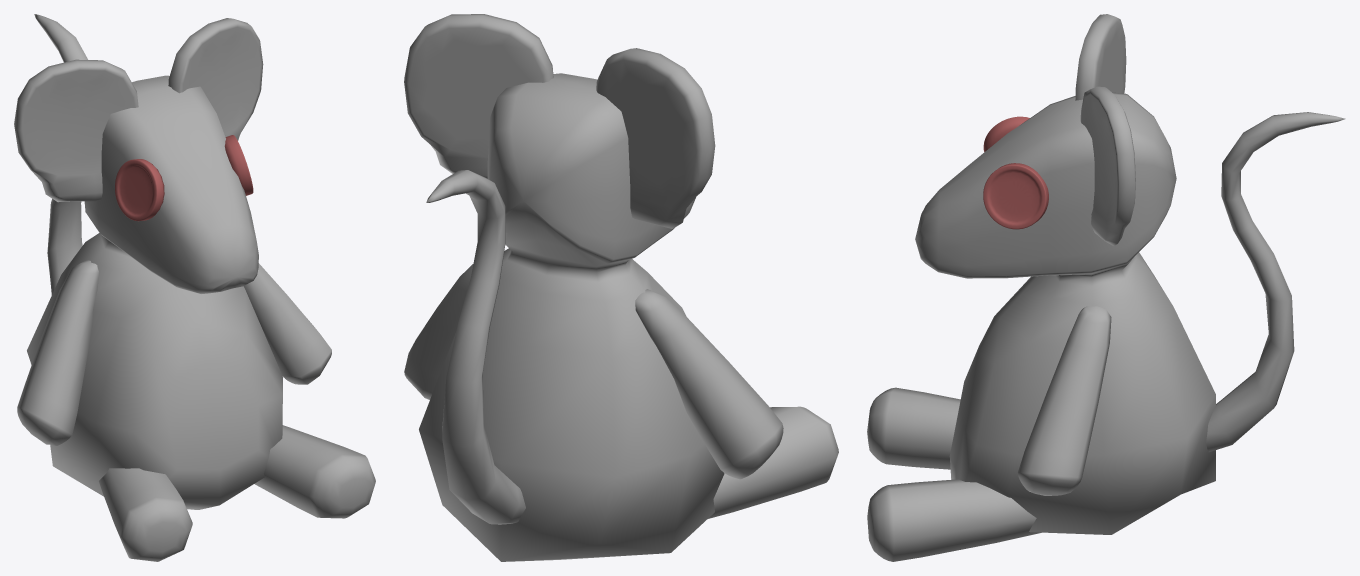
Rendered from TeddyRatPickup.fbx.
The picture shows the model from 3 angles, left to right: view 1: azimuth 30°, elevation 25°; view 2: azimuth 150°, elevation 25°; view 3: azimuth 270°, elevation 25°; orthographic projection. The views are drawn at different scales.
Parts seen in each view (by area): view 1: HeadnBody, Ear2, Arm1, Leg2, pCube35Ear1, Leg1, Arm2, Tail, ButtonEye2, ButtonEye; view 2: HeadnBody, pCube35Ear1, Tail, Ear2, Arm1, Leg1, Arm2; view 3: HeadnBody, Tail, Leg2, Arm2, Leg1, pCube35Ear1, ButtonEye, Ear2, ButtonEye2.
Part boxes in pixels (x1,y1,x2,y2): HeadnBody: (27,75,283,509); Ear2: (14,59,138,202); Arm1: (17,260,98,445); Leg2: (254,425,375,518); pCube35Ear1: (168,18,263,140); Leg1: (99,468,192,561); Arm2: (243,263,331,384); Tail: (34,14,87,294); ButtonEye2: (115,159,164,221); ButtonEye: (224,135,253,195); HeadnBody: (419,73,724,561); pCube35Ear1: (404,14,553,178); Tail: (426,170,525,524); Ear2: (596,48,715,228); Arm1: (635,289,783,479); Leg1: (708,406,838,518); Arm2: (404,264,473,399); HeadnBody: (915,92,1215,534); Tail: (1206,112,1345,452); Leg2: (867,479,1041,561); Arm2: (1018,306,1111,495); Leg1: (867,387,960,469); pCube35Ear1: (1080,86,1135,245); ButtonEye: (983,163,1048,229); Ear2: (1075,14,1126,100); ButtonEye2: (983,116,1029,151).
Bounding box in the file's own units: 2.56 × 3.49 × 3.31.
